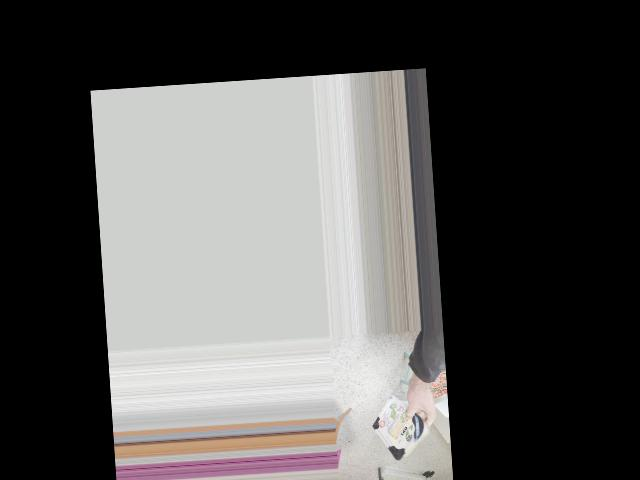cheese: (365, 402, 442, 460)
